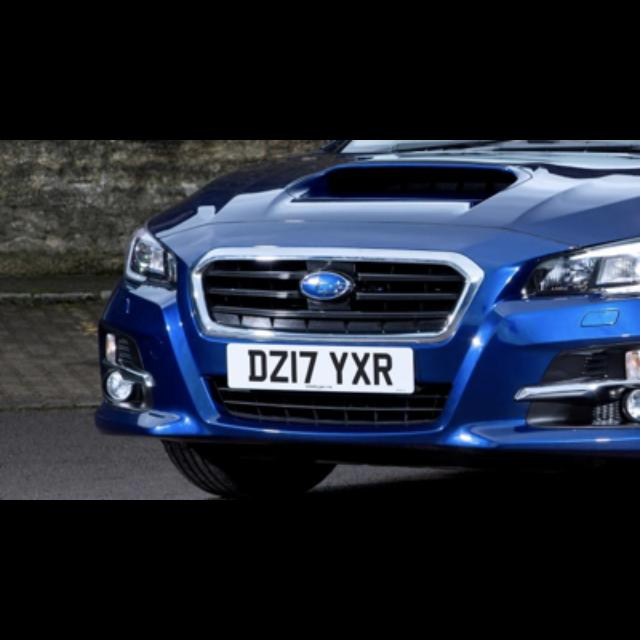carPlate: (227, 343, 413, 394)
